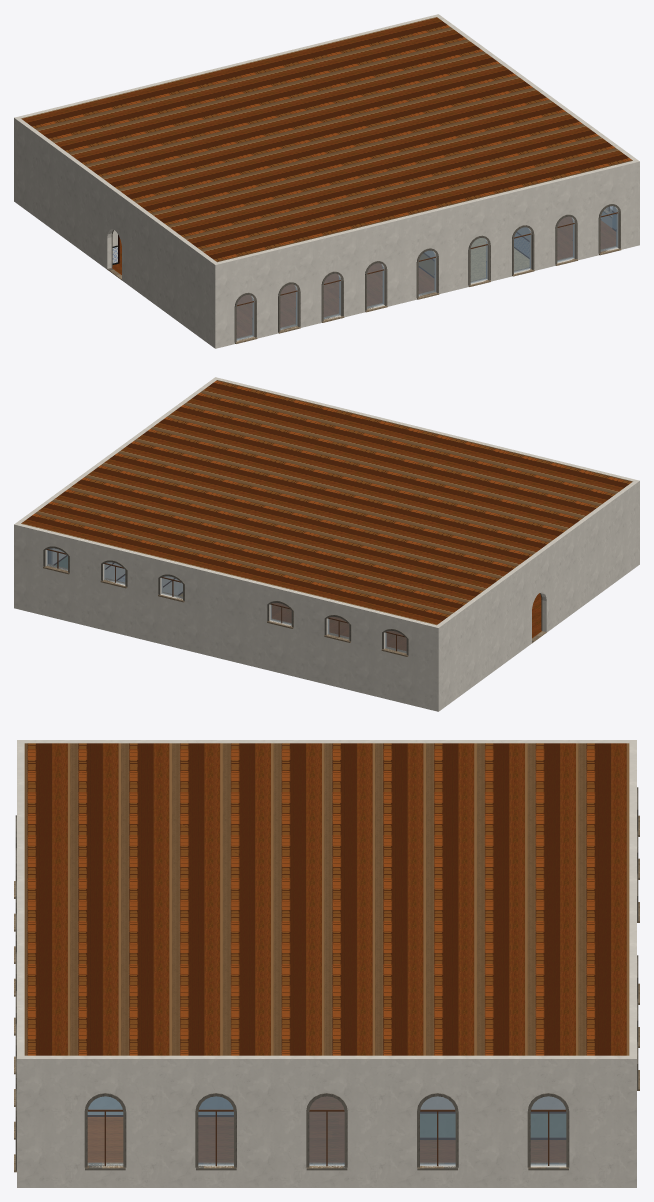
The model's file is shop_reading.gltf.
3 renders of one model, top to bottom at view 1: azimuth 30°, elevation 25°; view 2: azimuth 150°, elevation 25°; view 3: azimuth 270°, elevation 25°, orthographic. The views are drawn at different scales.
Visible parts, largest first — view 1: shop_reading; view 2: shop_reading; view 3: shop_reading.
Part boxes in pixels (x1,y1,x2,y2): shop_reading: (14,14,639,348); shop_reading: (14,377,639,711); shop_reading: (14,740,639,1187).
Size of what is drawn, in the model's own units: 29.82 by 5.6 by 24.64.
8 materials, 5 textured.
